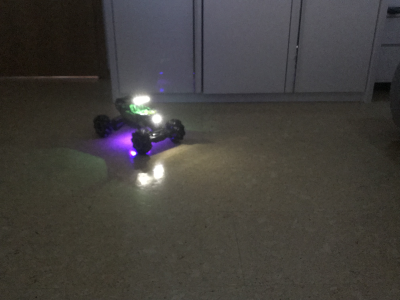remote control car: (90, 94, 187, 157)
